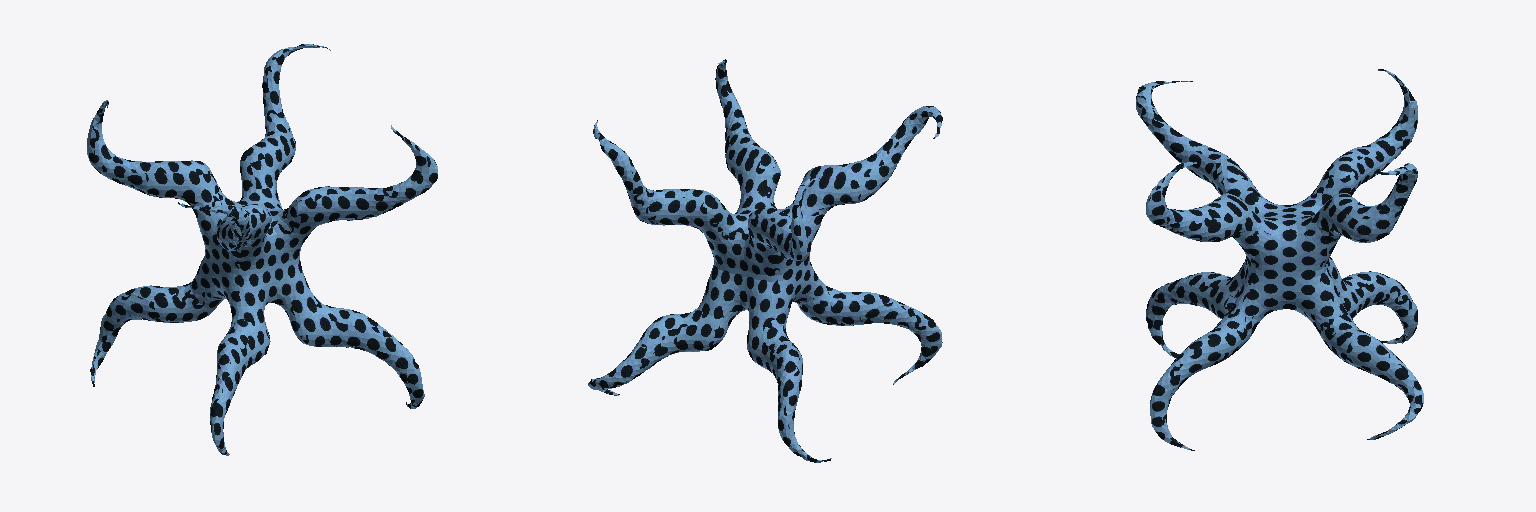
3 views of the same model, side by side, from view 1: azimuth 30°, elevation 25°; view 2: azimuth 150°, elevation 25°; view 3: azimuth 270°, elevation 25° (orthographic).
Visible parts, largest first — view 1: Group4992; view 2: Group4992; view 3: Group4992.
Part boxes in pixels (bbox=[...]): Group4992: bbox=[87, 44, 437, 455]; Group4992: bbox=[588, 59, 942, 462]; Group4992: bbox=[1136, 69, 1423, 450].
Bounding box in the file's own units: 3.64 × 4.05 × 3.72.
1 materials, 1 textured.